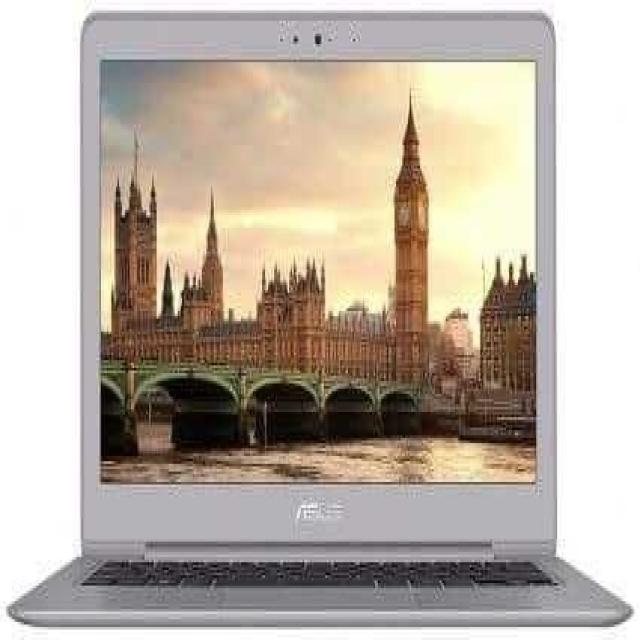laptop: (36, 9, 631, 640)
